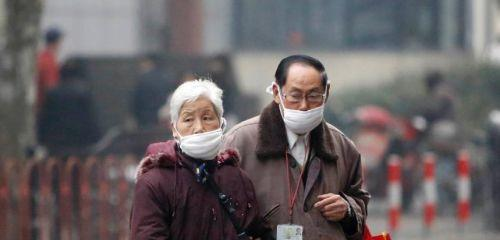WRONG: (281, 83, 326, 131), (181, 105, 223, 156)
